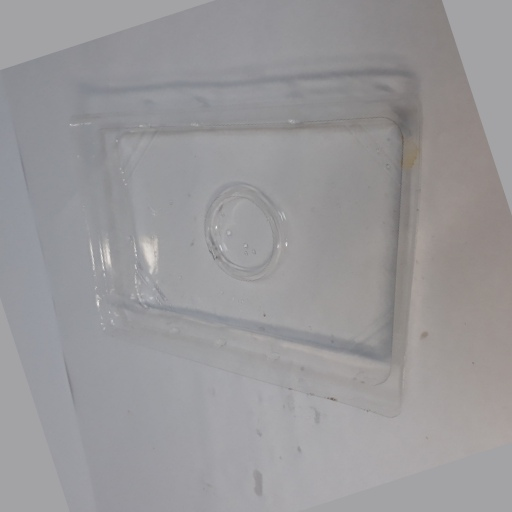Plastic_4: (64, 97, 416, 408)
